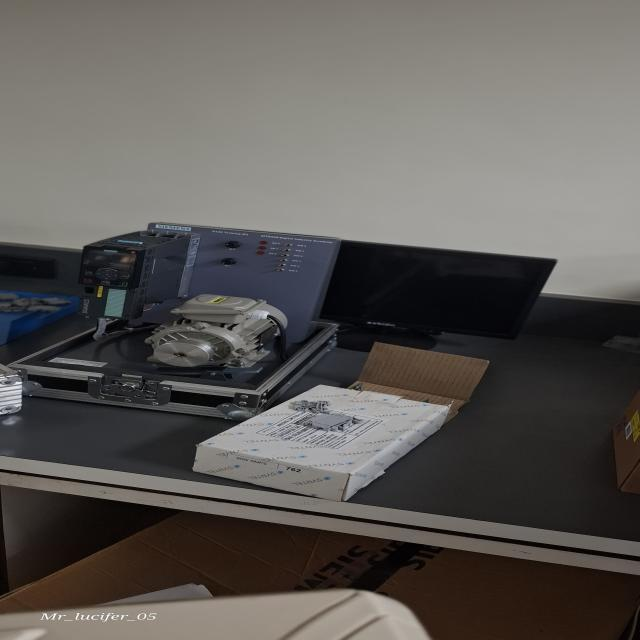Reject: (292, 398, 336, 413)
